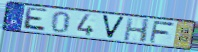0: (51, 11, 73, 34)
4: (76, 13, 96, 37)
E: (21, 6, 49, 33)
F: (148, 20, 176, 44)
H: (122, 17, 152, 44)
V: (100, 13, 127, 40)
